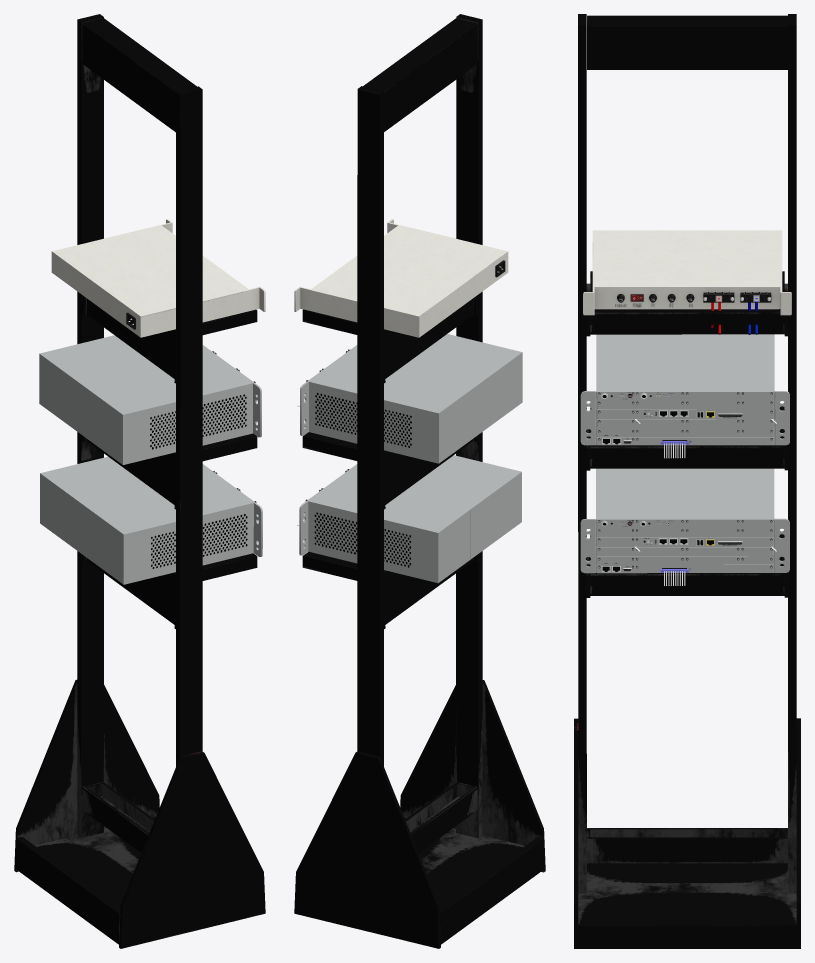
Rendered from Rackk.fbx.
The picture shows the model from 3 angles, left to right: view 1: azimuth 30°, elevation 25°; view 2: azimuth 150°, elevation 25°; view 3: azimuth 270°, elevation 25°; orthographic projection. The views are drawn at different scales.
Visible parts, largest first — view 1: Cube, Cube_001, Cube_2, Cube_3, Cube_1, Cube_002, Cube_008, Cube_003, Cube_004__1_, Cube_004__3_, Cube_004__2_, IDU_A (+2 smaller); view 2: Cube, Cube_001, Cube_2, Cube_3, Cube_1, Cube_002, Cube_008, Cube_003, Cube_004__1_, Cube_004__3_, Cube_004__2_, IDU_B (+2 smaller); view 3: Cube_2, Cube_3, Cube_002, Cube_1, Cube, Cube_008, Cube_003, Power_Supply, IDU_A, IDU_B, Cube_001, Cube_004__1_ (+3 smaller).
Boxes of the visible parts, x1,y1,x2,y2 form: Cube: (77,14,202,837); Cube_001: (14,679,265,948); Cube_2: (39,335,261,464); Cube_3: (40,456,262,584); Cube_1: (51,219,265,337); Cube_002: (16,816,156,944); Cube_008: (82,18,196,132); Cube_003: (82,782,154,852); Cube_004__1_: (86,298,175,378); Cube_004__3_: (86,558,175,624); Cube_004__2_: (86,439,175,504); IDU_A: (162,433,257,465); Cube: (357,14,482,838); Cube_001: (294,680,545,948); Cube_2: (300,334,522,463); Cube_3: (299,455,521,583); Cube_1: (294,219,508,337); Cube_002: (404,816,543,944); Cube_008: (363,18,477,131); Cube_003: (405,782,477,852); Cube_004__1_: (384,298,473,378); Cube_004__3_: (384,558,473,624); Cube_004__2_: (384,439,473,504); IDU_B: (302,551,399,585); Cube_2: (580,334,789,445); Cube_3: (580,468,789,573); Cube_002: (578,863,796,948); Cube_1: (583,230,791,315); Cube: (578,14,796,893); Cube_008: (587,15,788,69); Cube_003: (587,828,787,863); Power_Supply: (590,271,784,324); IDU_A: (590,406,784,458); IDU_B: (590,534,784,586); Cube_001: (574,718,800,948); Cube_004__1_: (590,324,784,334).
Bounding box in the file's own units: 36.94 × 179 × 41.23.
